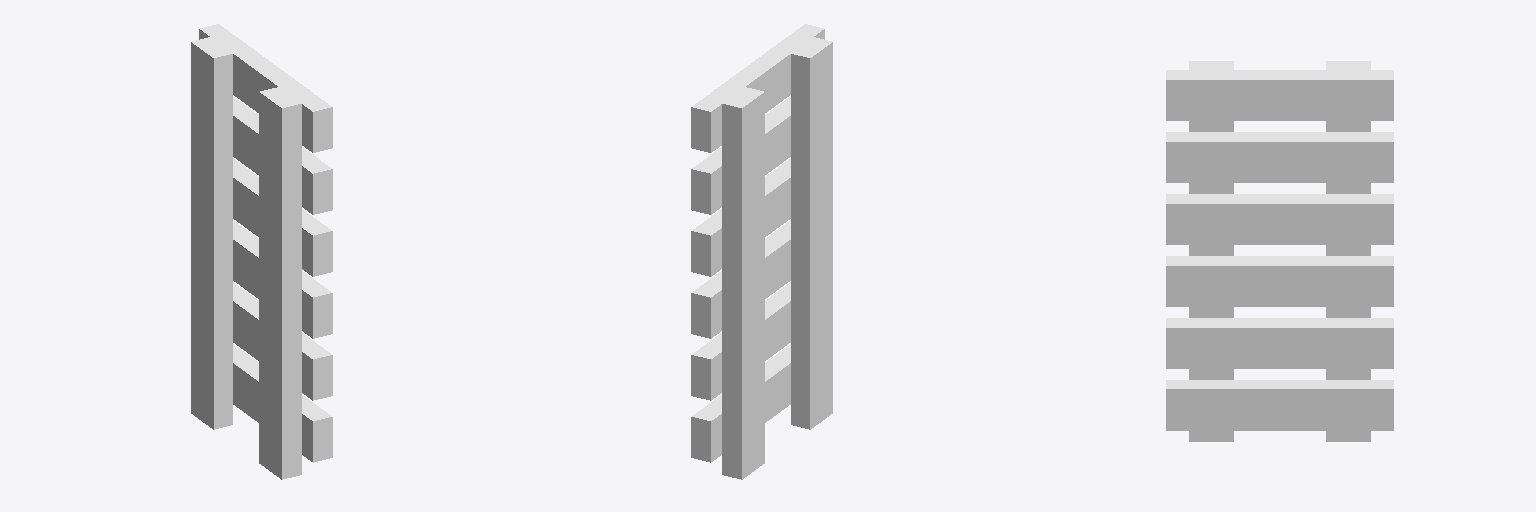
The model's file is assets01_copia03-3 1.obj.
3 views of the same model, side by side, from view 1: azimuth 30°, elevation 25°; view 2: azimuth 150°, elevation 25°; view 3: azimuth 270°, elevation 25° (orthographic).
Visible parts, largest first — view 1: object 1; view 2: object 1; view 3: object 1.
Boxes of the visible parts, x1,y1,x2,y2 form: object 1: [191, 24, 332, 479]; object 1: [691, 24, 832, 479]; object 1: [1166, 61, 1393, 441].
Size of the model in its own units: 0.2 by 1.8 by 1.